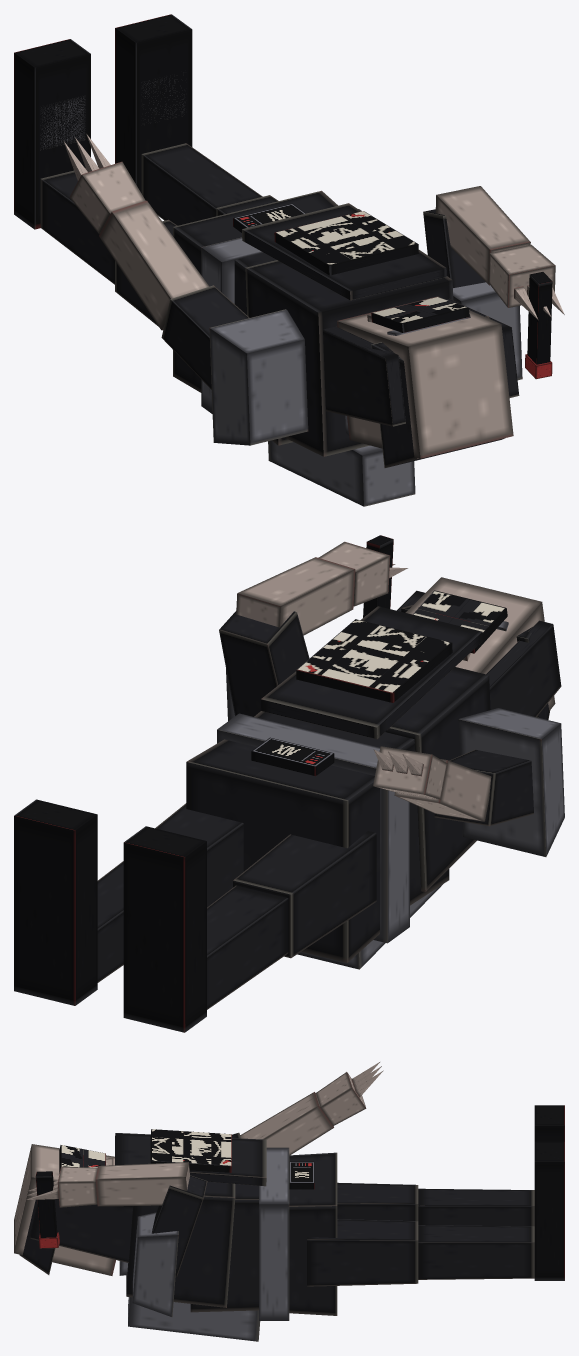
The model's file is redacth_warning.obj.
3 renders of one model, top to bottom at view 1: azimuth 30°, elevation 25°; view 2: azimuth 150°, elevation 25°; view 3: azimuth 270°, elevation 25°, orthographic. The views are drawn at different scales.
Visible parts, largest first — view 1: redacth_warning; view 2: redacth_warning; view 3: redacth_warning.
Boxes of the visible parts, <box> form: redacth_warning: <box>14,14,564,506</box>; redacth_warning: <box>14,535,564,1032</box>; redacth_warning: <box>14,1062,564,1341</box>.
Size of the model in its own units: 0.4772 by 0.4299 by 1.01.
Materials: 1 (1 with a texture image).
